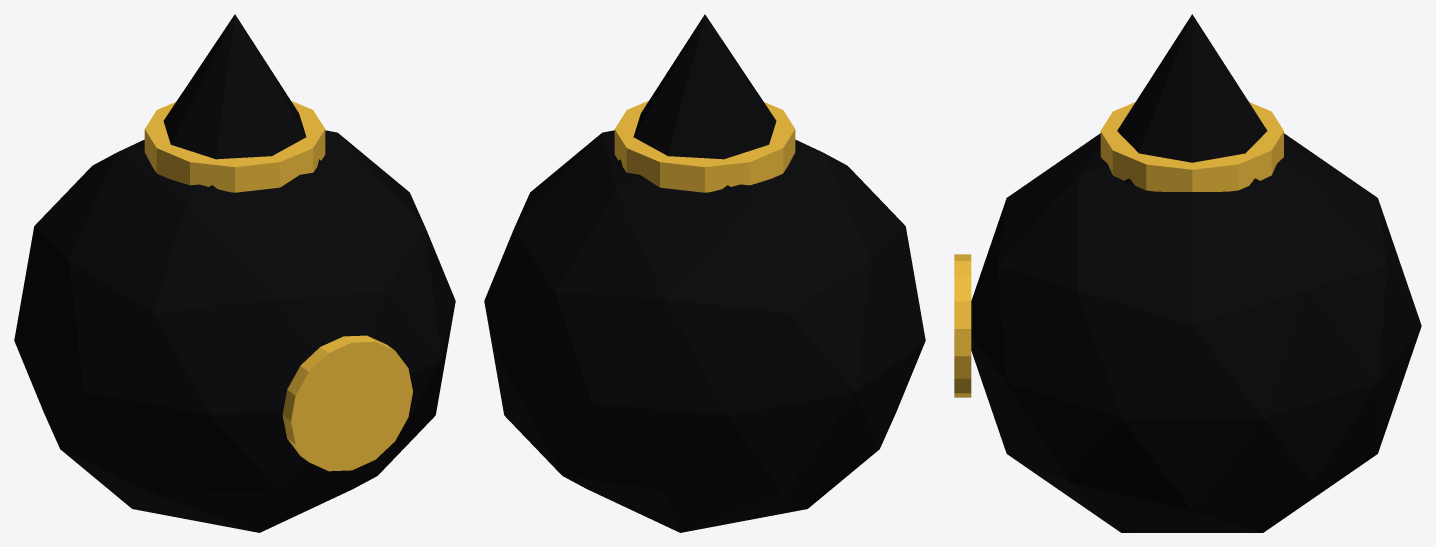
The model's file is Item_OR_MoneyBag_27.glb.
3 views of the same model, side by side, from view 1: azimuth 30°, elevation 25°; view 2: azimuth 150°, elevation 25°; view 3: azimuth 270°, elevation 25° (orthographic).
Visible parts, largest first — view 1: Item_OR_MoneyBag_27; view 2: Item_OR_MoneyBag_27; view 3: Item_OR_MoneyBag_27.
Part boxes in pixels (bbox=[...]): Item_OR_MoneyBag_27: bbox=[14, 14, 455, 532]; Item_OR_MoneyBag_27: bbox=[484, 14, 925, 532]; Item_OR_MoneyBag_27: bbox=[954, 14, 1421, 532].
Bounding box in the file's own units: 0.4109 × 0.5265 × 0.4401.
